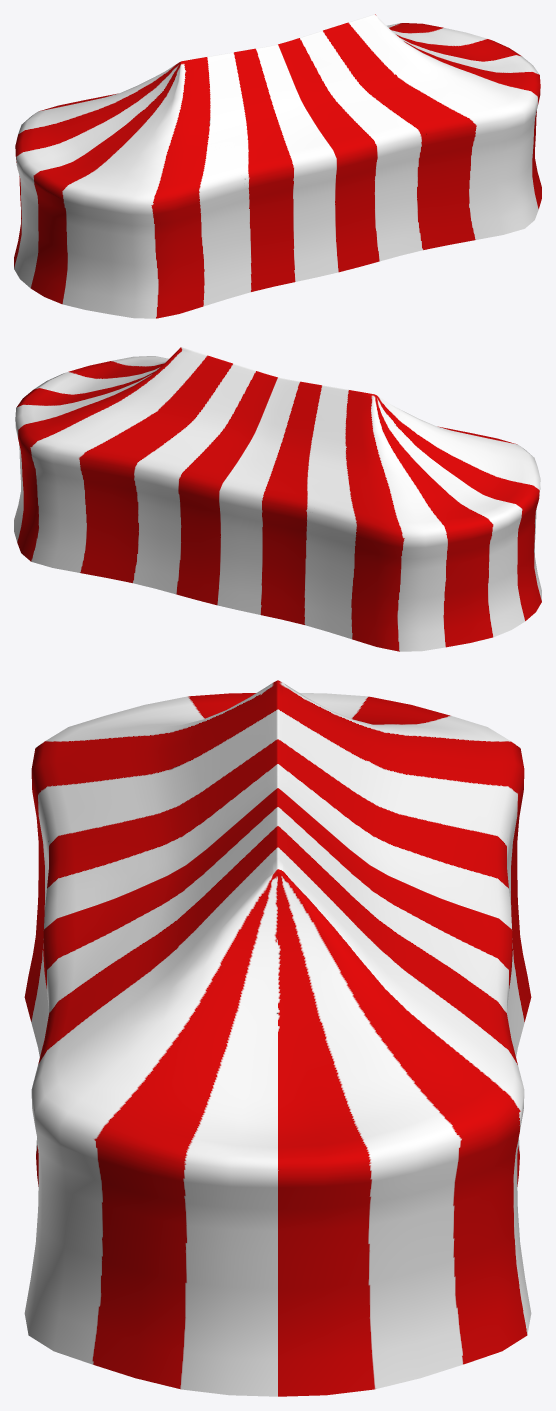
The model's file is circus_tent.obj.
3 views of the same model, one above another, from view 1: azimuth 30°, elevation 25°; view 2: azimuth 150°, elevation 25°; view 3: azimuth 270°, elevation 25° (orthographic). The views are drawn at different scales.
Visible parts, largest first — view 1: BigTent_Plane.004; view 2: BigTent_Plane.004; view 3: BigTent_Plane.004.
Boxes of the visible parts, left/top/right/bottom form: BigTent_Plane.004: left=14, top=14, right=541, bottom=318; BigTent_Plane.004: left=14, top=347, right=541, bottom=651; BigTent_Plane.004: left=24, top=680, right=531, bottom=1396.
Size of the model in its own units: 0.3411 by 0.1255 by 0.1513.
1 material, 1 textured.
